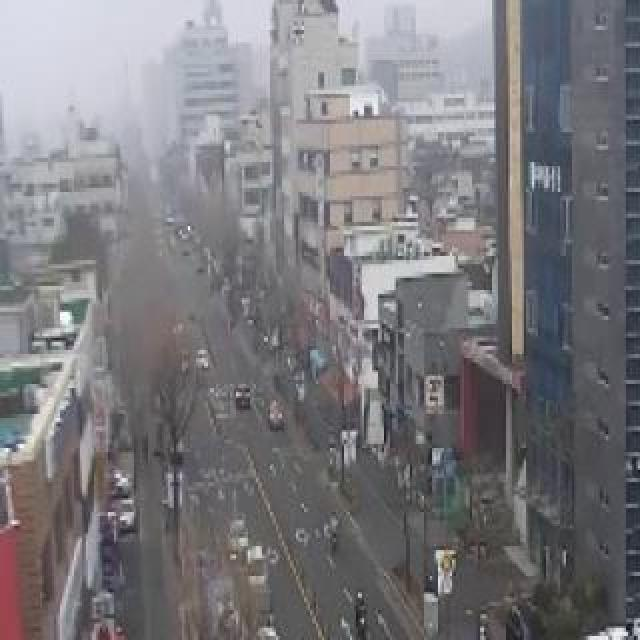motorbike: (349, 574, 379, 638)
